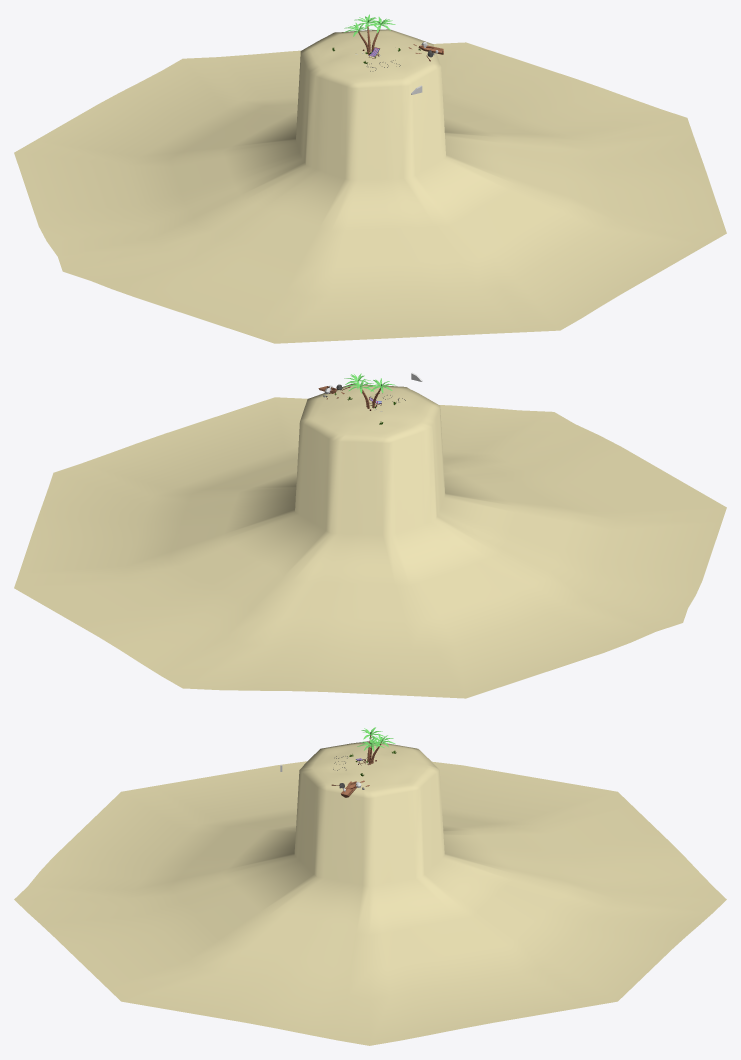
Rendered from desertedisland.fbx.
3 views of the same model, one above another, from view 1: azimuth 30°, elevation 25°; view 2: azimuth 150°, elevation 25°; view 3: azimuth 270°, elevation 25° (orthographic). The views are drawn at different scales.
Parts seen in each view (by area): view 1: Plane; view 2: Plane; view 3: Plane.
Part boxes in pixels (x1=…): Plane: x1=14, y1=29, x2=726, y2=343; Plane: x1=14, y1=384, x2=726, y2=698; Plane: x1=14, y1=741, x2=726, y2=1045.
Bounding box in the file's own units: 81747 × 21650 × 84581.
